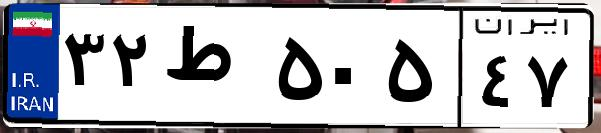0: (330, 28, 385, 110)
2: (110, 28, 158, 98)
3: (57, 26, 110, 100)
4: (475, 38, 525, 113)
5: (270, 28, 330, 110), (385, 28, 445, 110)
7: (525, 38, 570, 115)
ط: (158, 20, 270, 120)
